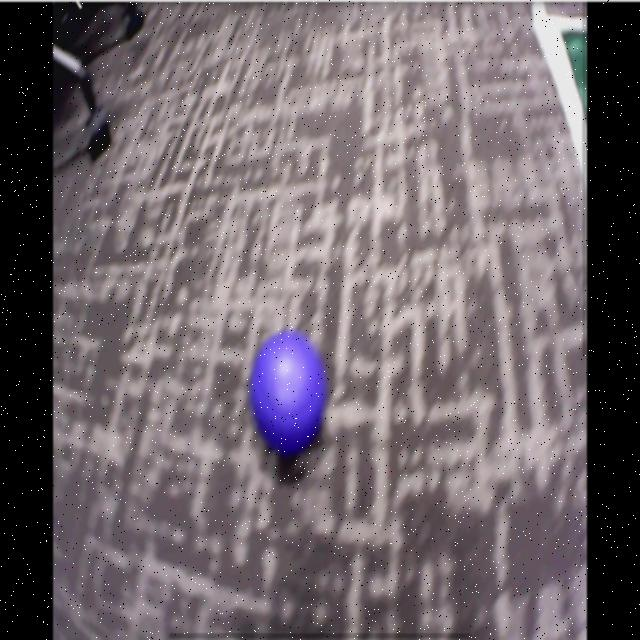ball: (251, 334, 325, 451)
